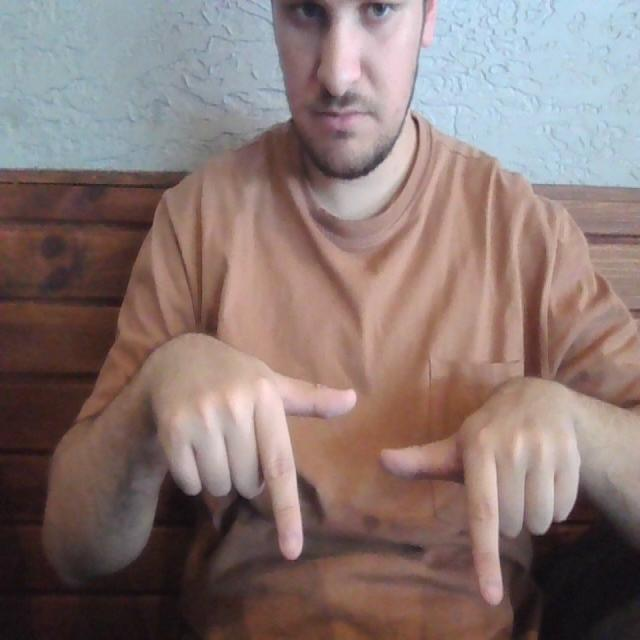Nerede: (252, 357, 508, 613)
